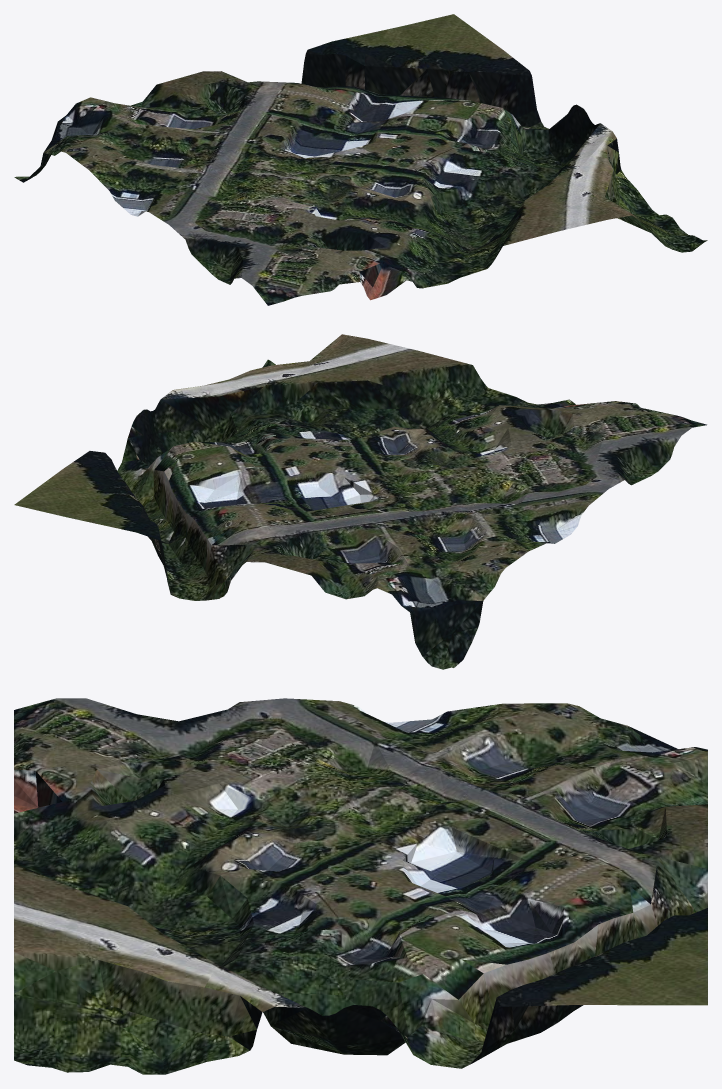
Rendered from map_15_8178_13785.dae.
The picture shows the model from 3 angles, top to bottom: view 1: azimuth 30°, elevation 25°; view 2: azimuth 150°, elevation 25°; view 3: azimuth 270°, elevation 25°; orthographic projection. The views are drawn at different scales.
Visible parts, largest first — view 1: Ter0; view 2: Ter0; view 3: Ter0.
Boxes of the visible parts, box(x1,y1,x2,y2) form: Ter0: box(14, 14, 707, 305); Ter0: box(14, 334, 706, 669); Ter0: box(14, 698, 707, 1074).
Bounding box in the file's own units: 63.88 × 63.88 × 9.73.
Materials: 2 (2 with a texture image).
